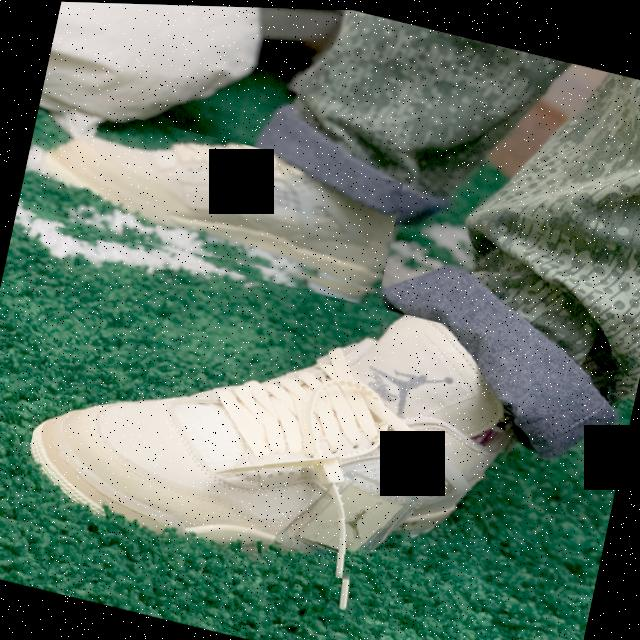shoe: (17, 233, 533, 614), (35, 99, 403, 303)
